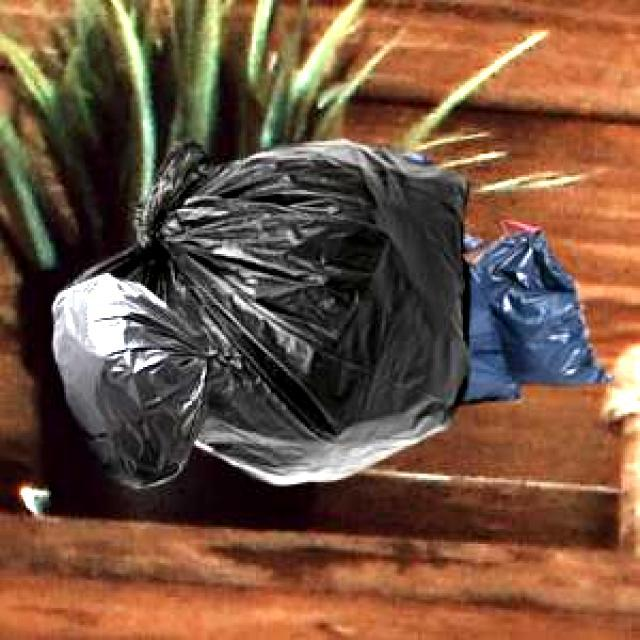Garbage_Bag: (61, 136, 468, 482), (398, 151, 609, 402), (50, 270, 238, 486)
